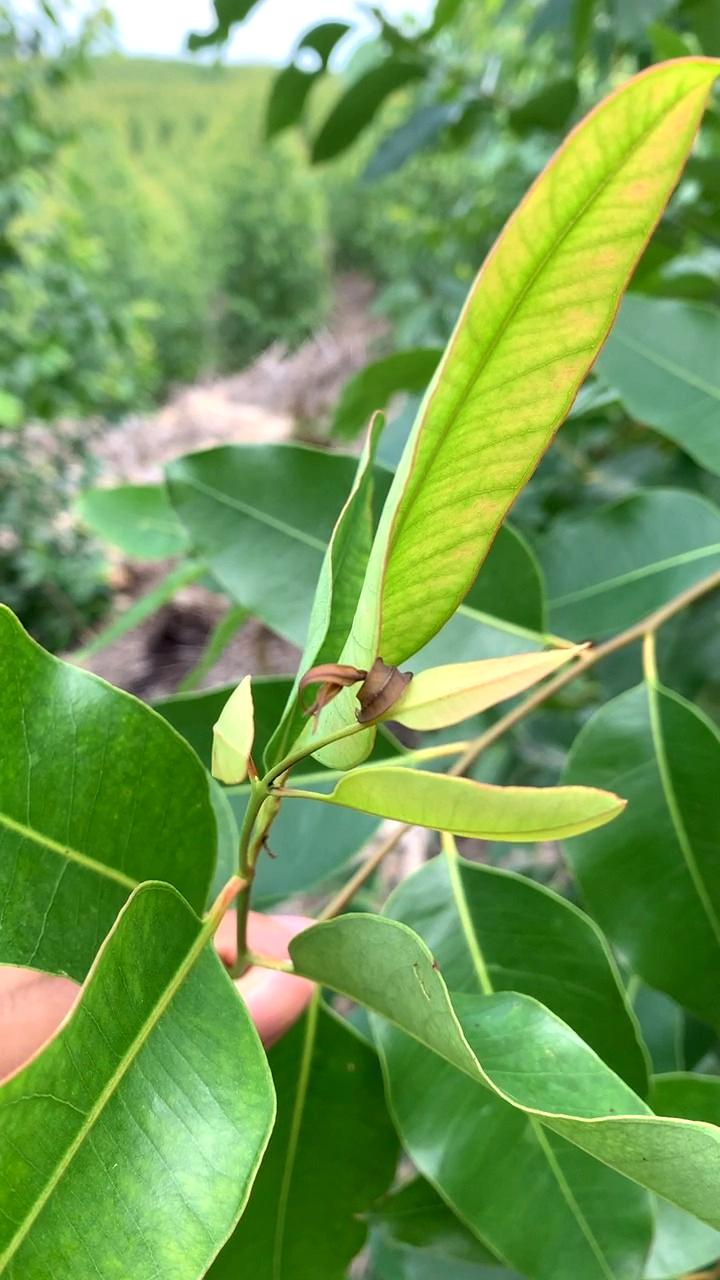Helopeltis-Withered Sprout: (300, 638, 417, 727)
